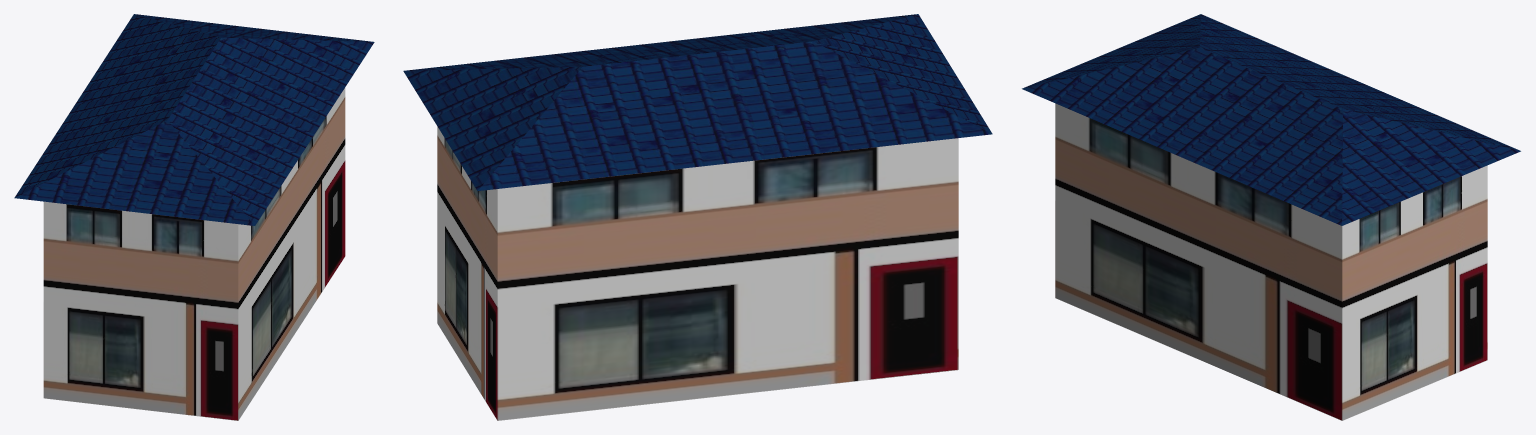
3 renders of one model, left to right at view 1: azimuth 30°, elevation 25°; view 2: azimuth 150°, elevation 25°; view 3: azimuth 270°, elevation 25°, orthographic. The views are drawn at different scales.
Parts seen in each view (by area): view 1: CityEngineMaterial_5_m, CityEngineMaterial_6_m; view 2: CityEngineMaterial_5_m, CityEngineMaterial_6_m; view 3: CityEngineMaterial_5_m, CityEngineMaterial_6_m.
Boxes of the visible parts, x1,y1,x2,y2 form: CityEngineMaterial_5_m: (43, 87, 345, 420); CityEngineMaterial_6_m: (14, 14, 374, 225); CityEngineMaterial_5_m: (437, 126, 958, 420); CityEngineMaterial_6_m: (403, 14, 992, 190); CityEngineMaterial_5_m: (1055, 103, 1487, 420); CityEngineMaterial_6_m: (1022, 14, 1520, 225).
Bounding box in the file's own units: 19.61 × 10.82 × 19.54.
